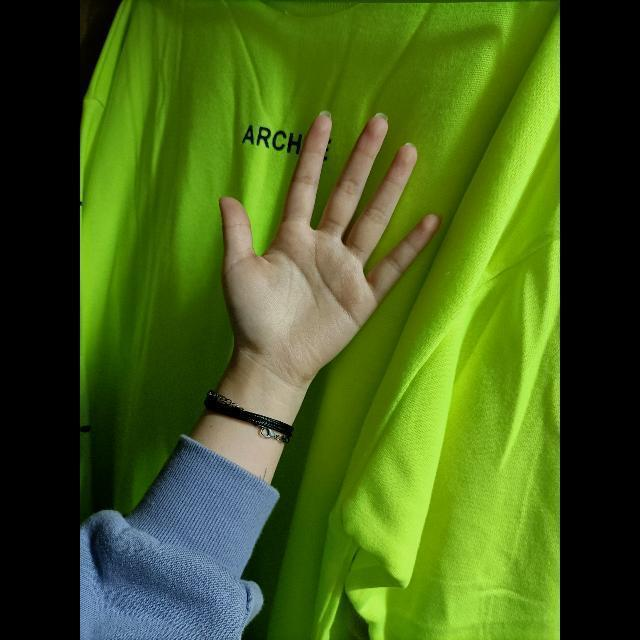bare_hand: (215, 109, 446, 424)
